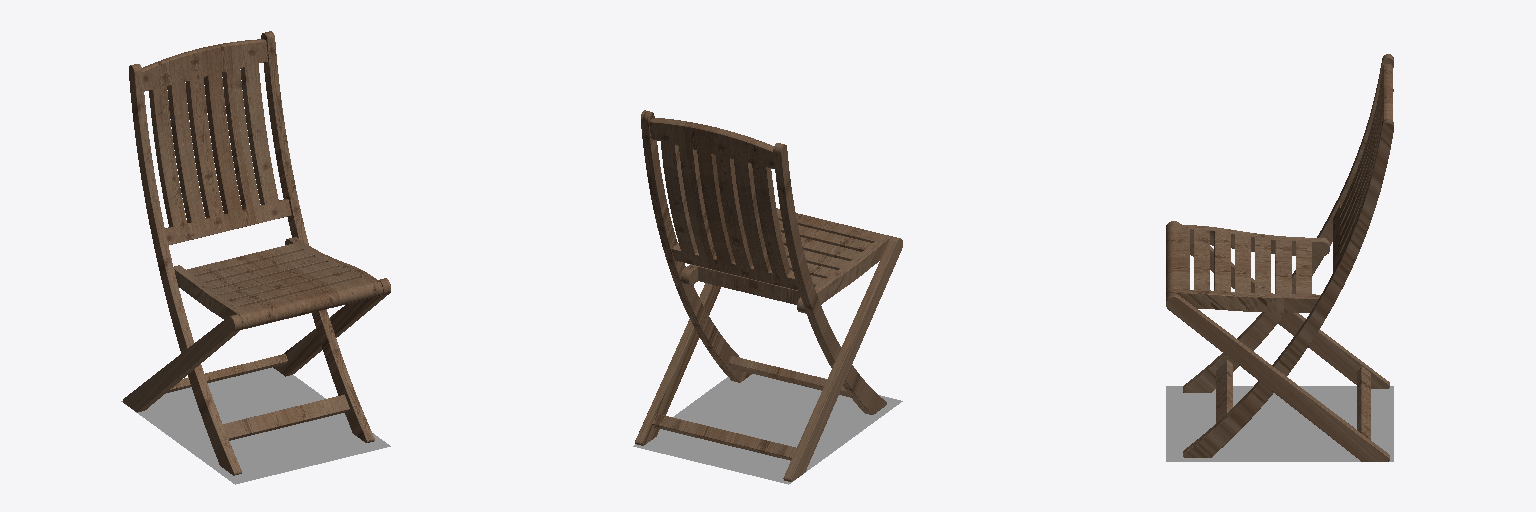
The picture shows the model from 3 angles: view 1: azimuth 30°, elevation 25°; view 2: azimuth 150°, elevation 25°; view 3: azimuth 270°, elevation 25°; orthographic projection.
Parts seen in each view (by area): view 1: default_1_2, ground_1; view 2: default_1_2, ground_1; view 3: default_1_2, ground_1.
Part boxes in pixels (bbox=[...]): default_1_2: bbox=[123, 31, 390, 475]; ground_1: bbox=[121, 367, 390, 484]; default_1_2: bbox=[635, 110, 902, 481]; ground_1: bbox=[633, 374, 902, 484]; default_1_2: bbox=[1166, 54, 1393, 461]; ground_1: bbox=[1166, 386, 1393, 461].
Size of the model in its own units: 44.4 by 91 by 56.2.
Materials: 2 (1 with a texture image).